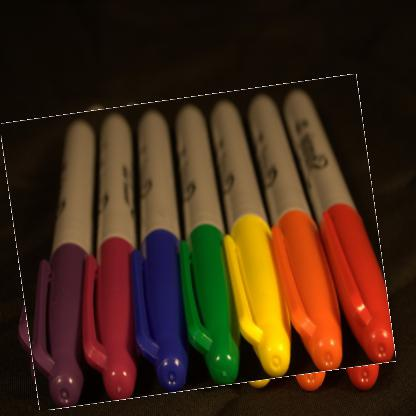Pen: (9, 86, 387, 400)
